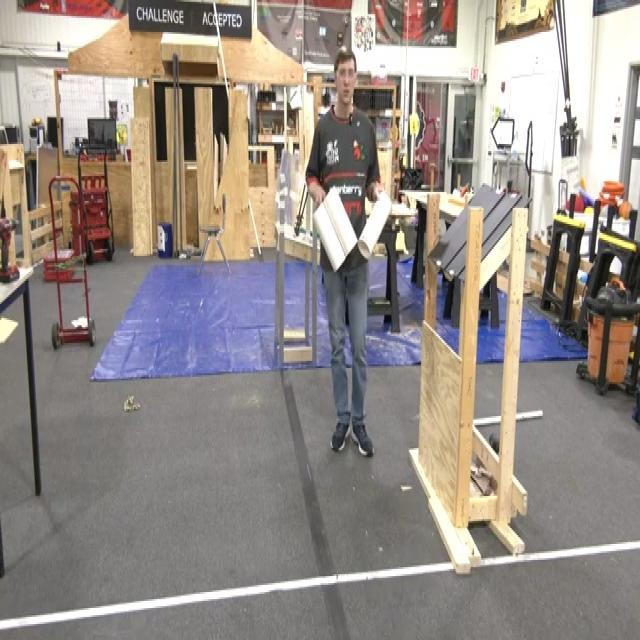Coral: (322, 186, 358, 258), (313, 199, 345, 271), (358, 194, 390, 256)
